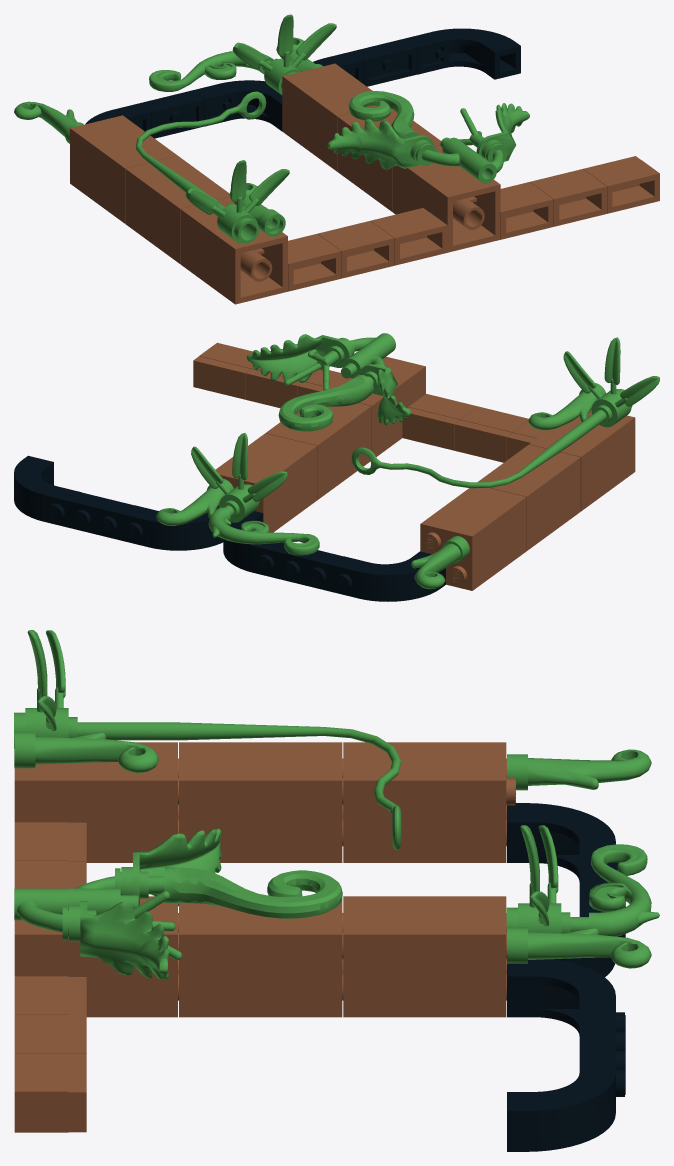
File: Muro.dae
3 renders of one model, top to bottom at view 1: azimuth 30°, elevation 25°; view 2: azimuth 150°, elevation 25°; view 3: azimuth 270°, elevation 25°, orthographic. The views are drawn at different scales.
Visible parts, largest first — view 1: Inner-Node-Muro_dot_io-3, Inner-Node-Muro_dot_io-0, Inner-Node-Muro_dot_io-5, Inner-Node-Muro_dot_io-2, Inner-Node-Muro_dot_io-4, Inner-Node-Muro_dot_io-22, Inner-Node-Muro_dot_io-34, Inner-Node-Muro_dot_io-28, Inner-Node-Muro_dot_io-1, Inner-Node-Muro_dot_io-35, Inner-Node-Muro_dot_io-7, Inner-Node-Muro_dot_io-10 (+19 smaller); view 2: Inner-Node-Muro_dot_io-5, Inner-Node-Muro_dot_io-4, Inner-Node-Muro_dot_io-2, Inner-Node-Muro_dot_io-3, Inner-Node-Muro_dot_io-1, Inner-Node-Muro_dot_io-24, Inner-Node-Muro_dot_io-20, Inner-Node-Muro_dot_io-34, Inner-Node-Muro_dot_io-35, Inner-Node-Muro_dot_io-31, Inner-Node-Muro_dot_io-30, Inner-Node-Muro_dot_io-19 (+21 smaller); view 3: Inner-Node-Muro_dot_io-2, Inner-Node-Muro_dot_io-5, Inner-Node-Muro_dot_io-4, Inner-Node-Muro_dot_io-1, Inner-Node-Muro_dot_io-3, Inner-Node-Muro_dot_io-0, Inner-Node-Muro_dot_io-22, Inner-Node-Muro_dot_io-30, Inner-Node-Muro_dot_io-33, Inner-Node-Muro_dot_io-31, Inner-Node-Muro_dot_io-23, Inner-Node-Muro_dot_io-36 (+19 smaller).
Part boxes in pixels (left/top/right/bottom): Inner-Node-Muro_dot_io-3: left=180, top=197, right=287, bottom=304; Inner-Node-Muro_dot_io-0: left=393, top=145, right=500, bottom=252; Inner-Node-Muro_dot_io-5: left=70, top=115, right=177, bottom=223; Inner-Node-Muro_dot_io-2: left=282, top=63, right=377, bottom=171; Inner-Node-Muro_dot_io-4: left=125, top=156, right=229, bottom=263; Inner-Node-Muro_dot_io-22: left=411, top=28, right=520, bottom=79; Inner-Node-Muro_dot_io-34: left=185, top=160, right=289, bottom=243; Inner-Node-Muro_dot_io-28: left=327, top=119, right=433, bottom=169; Inner-Node-Muro_dot_io-1: left=337, top=108, right=441, bottom=212; Inner-Node-Muro_dot_io-35: left=232, top=14, right=336, bottom=94; Inner-Node-Muro_dot_io-7: left=323, top=225, right=394, bottom=278; Inner-Node-Muro_dot_io-10: left=536, top=173, right=606, bottom=226; Inner-Node-Muro_dot_io-5: left=420, top=488, right=526, bottom=590; Inner-Node-Muro_dot_io-4: left=477, top=444, right=580, bottom=551; Inner-Node-Muro_dot_io-2: left=215, top=433, right=317, bottom=532; Inner-Node-Muro_dot_io-3: left=529, top=410, right=635, bottom=511; Inner-Node-Muro_dot_io-1: left=266, top=403, right=371, bottom=499; Inner-Node-Muro_dot_io-24: left=44, top=490, right=153, bottom=547; Inner-Node-Muro_dot_io-20: left=253, top=543, right=363, bottom=598; Inner-Node-Muro_dot_io-34: left=563, top=337, right=659, bottom=427; Inner-Node-Muro_dot_io-35: left=191, top=433, right=287, bottom=522; Inner-Node-Muro_dot_io-31: left=246, top=334, right=352, bottom=382; Inner-Node-Muro_dot_io-30: left=278, top=374, right=373, bottom=431; Inner-Node-Muro_dot_io-19: left=338, top=551, right=445, bottom=601; Inner-Node-Muro_dot_io-2: left=343, top=896, right=506, bottom=1017; Inner-Node-Muro_dot_io-5: left=343, top=742, right=515, bottom=862; Inner-Node-Muro_dot_io-4: left=179, top=742, right=343, bottom=862; Inner-Node-Muro_dot_io-1: left=179, top=898, right=343, bottom=1017; Inner-Node-Muro_dot_io-3: left=14, top=742, right=178, bottom=862; Inner-Node-Muro_dot_io-0: left=14, top=896, right=178, bottom=1017; Inner-Node-Muro_dot_io-22: left=507, top=1053, right=615, bottom=1151; Inner-Node-Muro_dot_io-30: left=148, top=867, right=342, bottom=918; Inner-Node-Muro_dot_io-33: left=77, top=722, right=401, bottom=849; Inner-Node-Muro_dot_io-31: left=69, top=901, right=168, bottom=980; Inner-Node-Muro_dot_io-23: left=507, top=959, right=615, bottom=1035; Inner-Node-Muro_dot_io-36: left=570, top=844, right=659, bottom=936.
Bounding box in the file's own units: 367 × 98.69 × 283.
